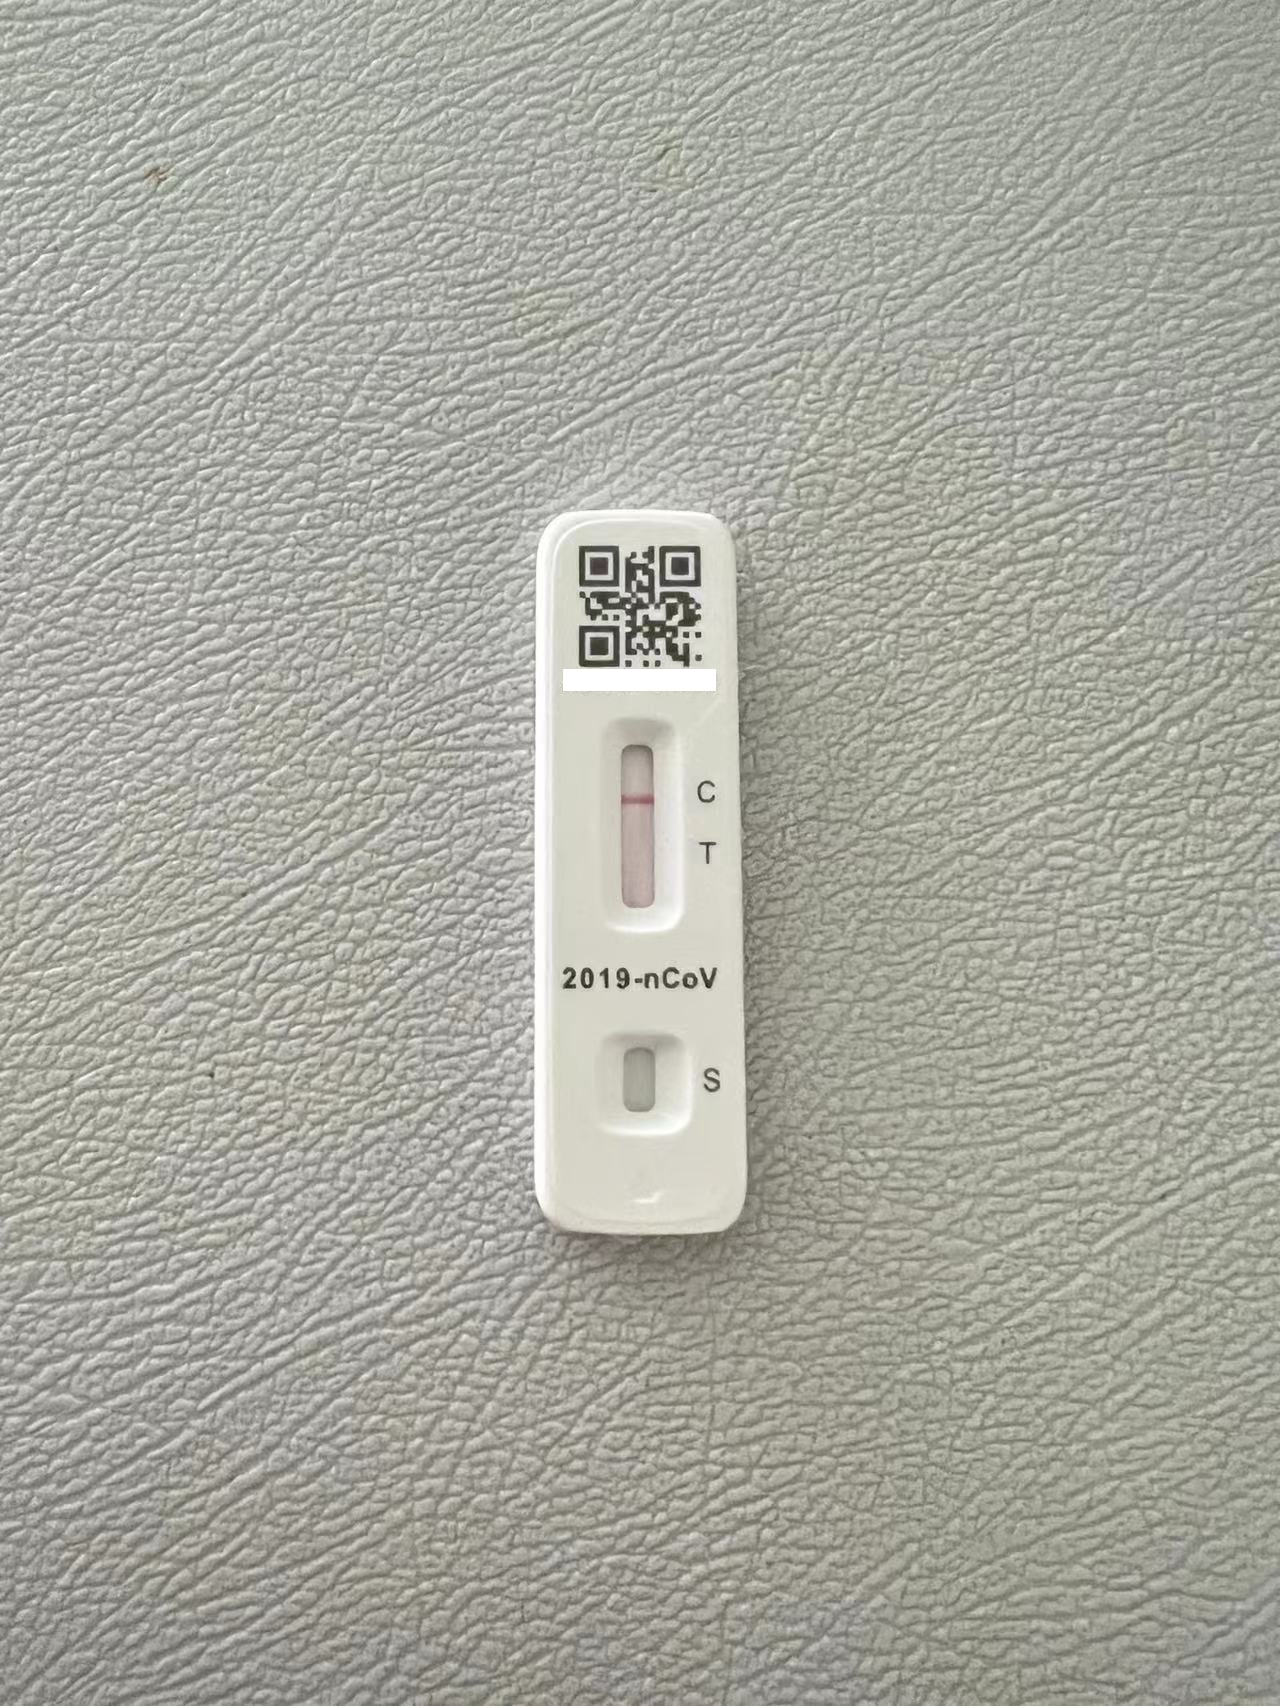negative: (600, 718, 680, 920)
